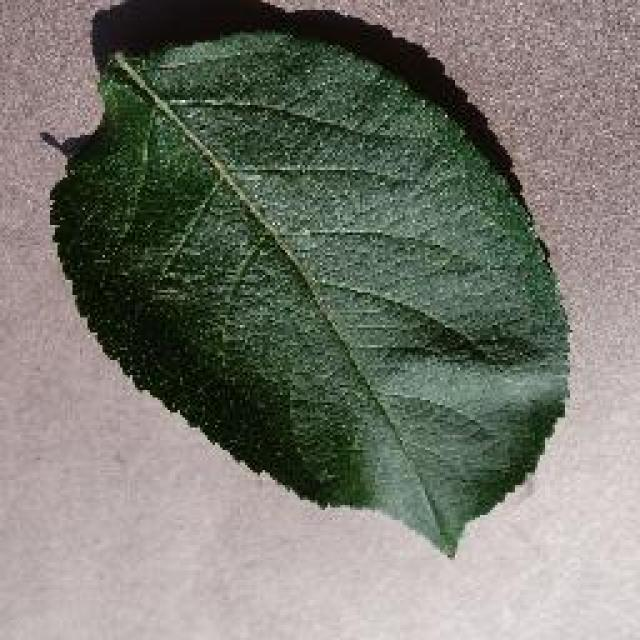apple healthy: (40, 0, 575, 558)
